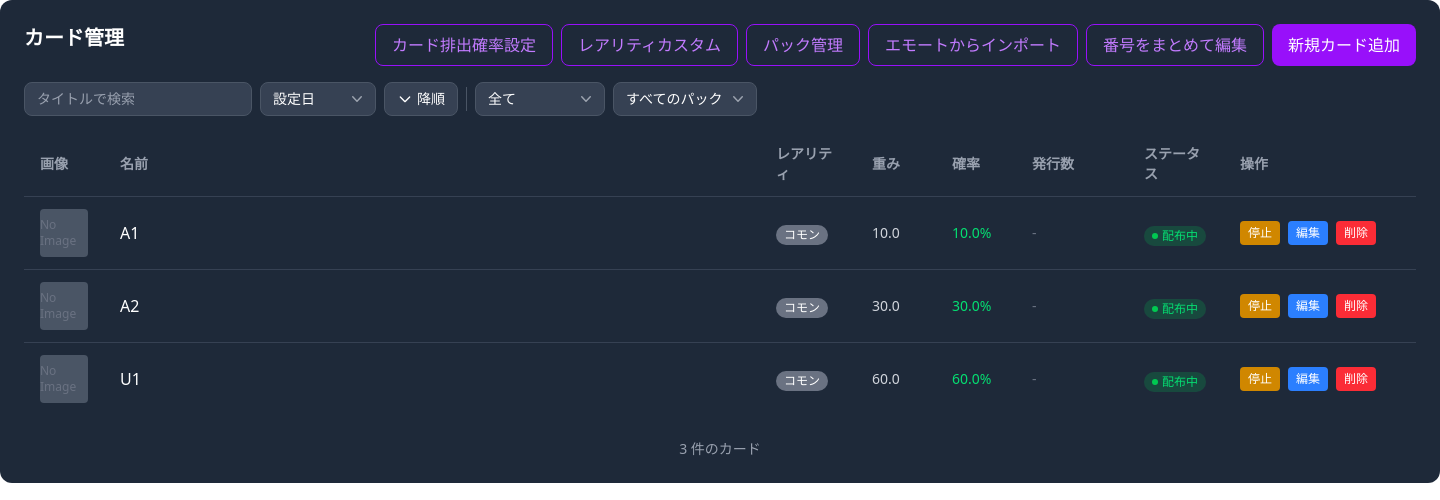
Scenario: CardManager pack-relative probability (Issue #565) › renormalizes probabilities within the selected pack and shows the hint
The image size is (1440, 500).
Select "パックA" in the dropdown named "カードパックで絞り込む". click: (685, 99)
box: x1=613 y1=82 x2=757 y2=116
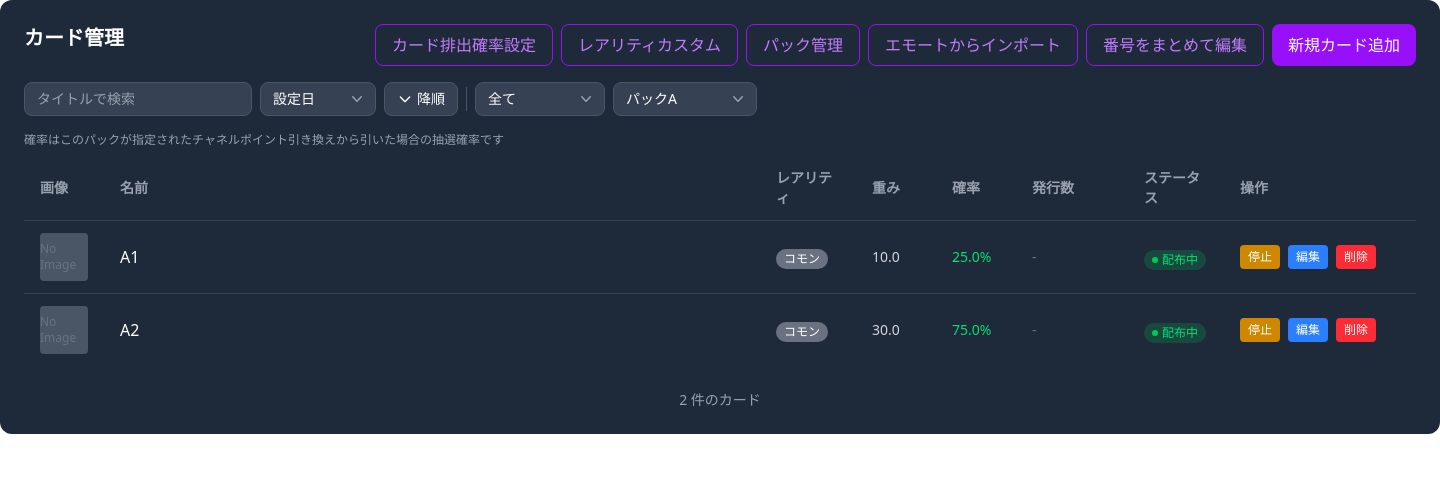
expect the text "25.0%" is shown: met, box x1=936 y1=220 x2=1016 y2=294
expect the text "75.0%" is shown: met, box x1=936 y1=294 x2=1016 y2=366
expect the text "10.0%" is gone: met
